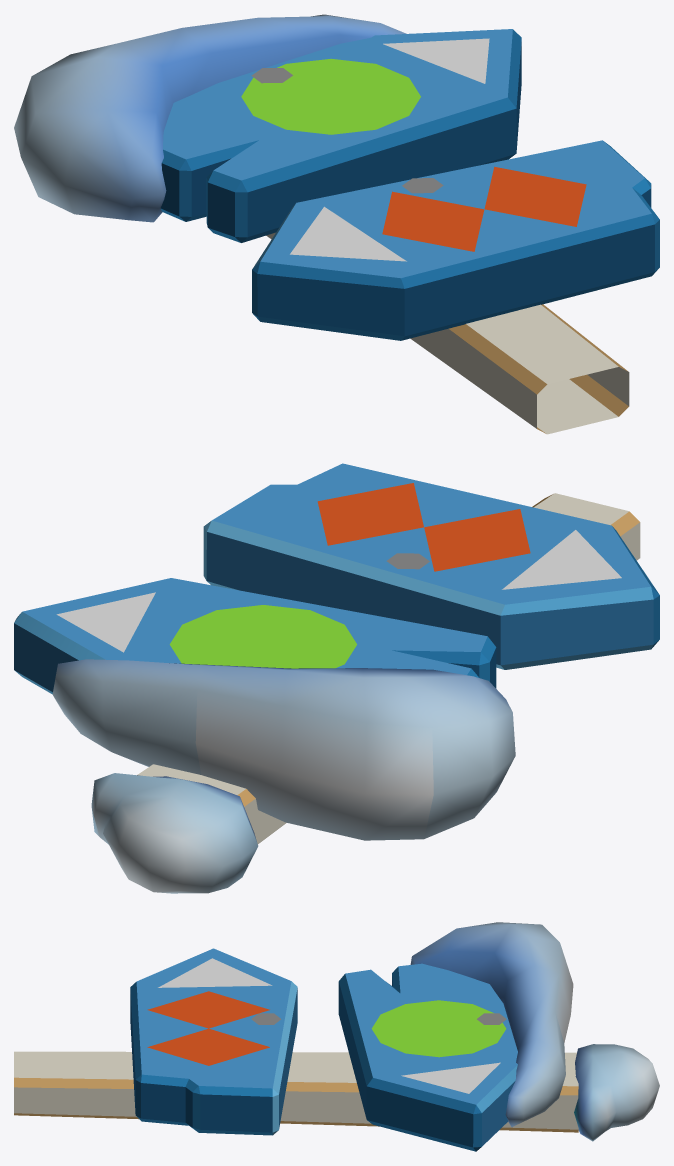
File: Sign.fbx
3 views of the same model, one above another, from view 1: azimuth 30°, elevation 25°; view 2: azimuth 150°, elevation 25°; view 3: azimuth 270°, elevation 25° (orthographic). The views are drawn at different scales.
Parts seen in each view (by area): view 1: sign; view 2: sign; view 3: sign.
Part boxes in pixels (x1,y1,x2,y2): sign: [14, 14, 659, 434]; sign: [14, 463, 659, 893]; sign: [14, 922, 659, 1151].
Size of the model in its own units: 278 by 106 by 434.
